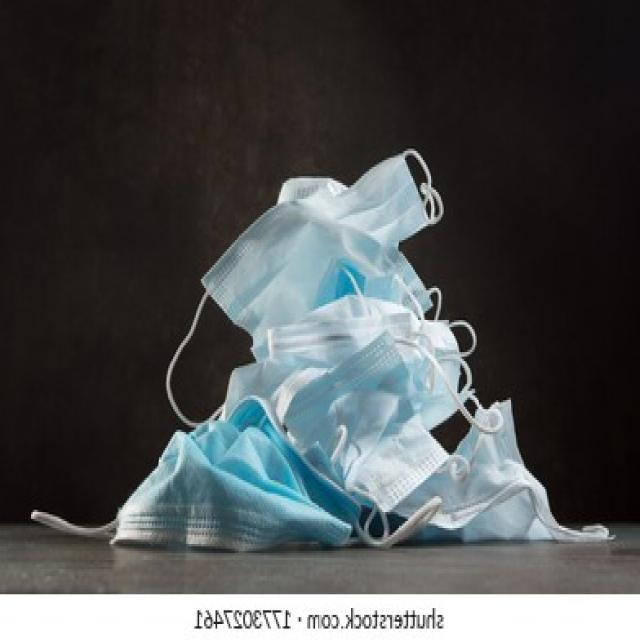face mask: (160, 126, 454, 437), (34, 432, 418, 555)
